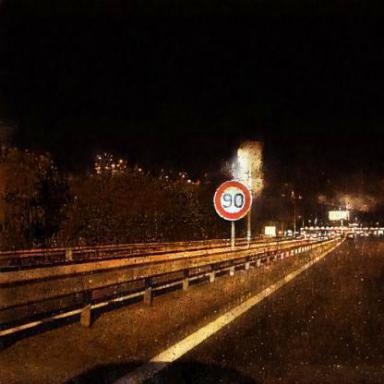Speed_limit_90: (214, 181, 252, 222)
